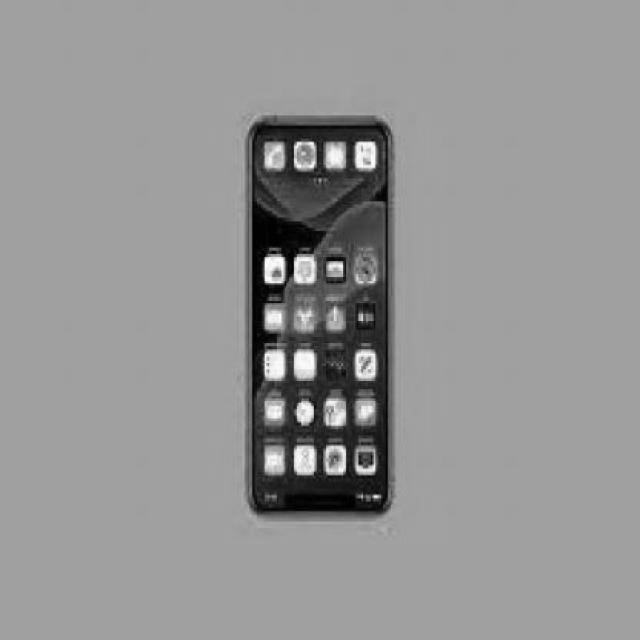fake: (250, 118, 393, 518)
